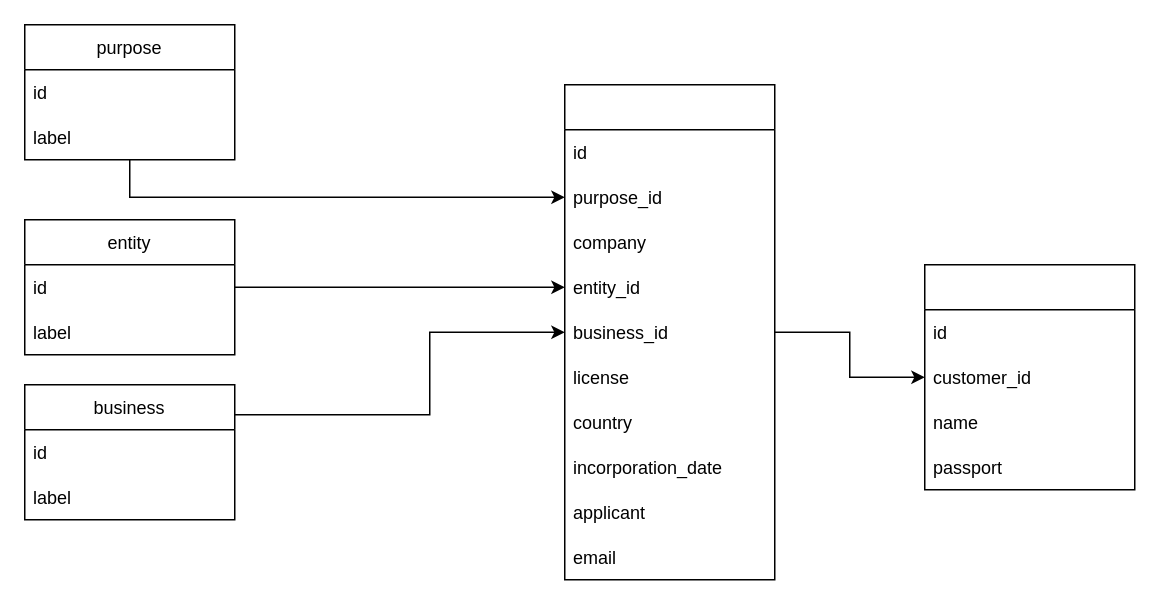
Some shapes in this 1160 by 605 pixel diagram are drawn without their labels. The box of each missing label's shape, as (x1, y1, x2, y2) in pixels:
customer: (563, 83, 775, 580)
shareholders: (923, 263, 1135, 490)
